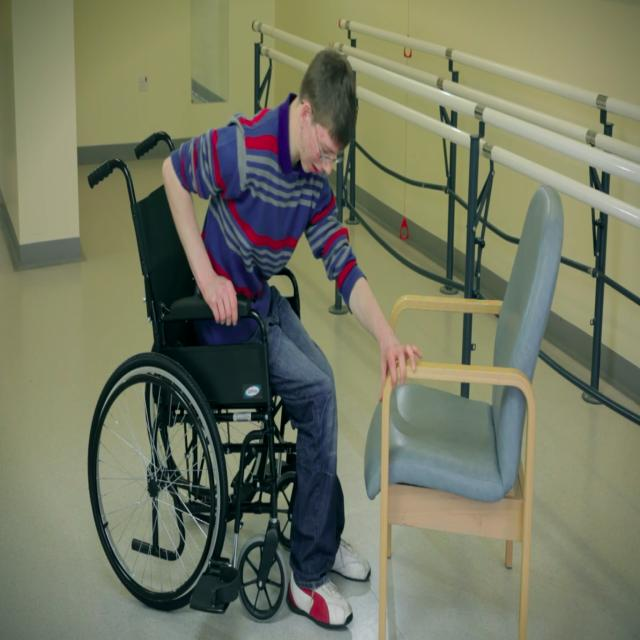wheelchairs: (88, 130, 333, 613)
